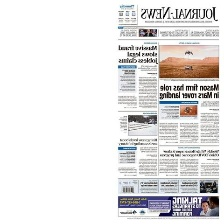news_paper: (118, 2, 219, 219)
